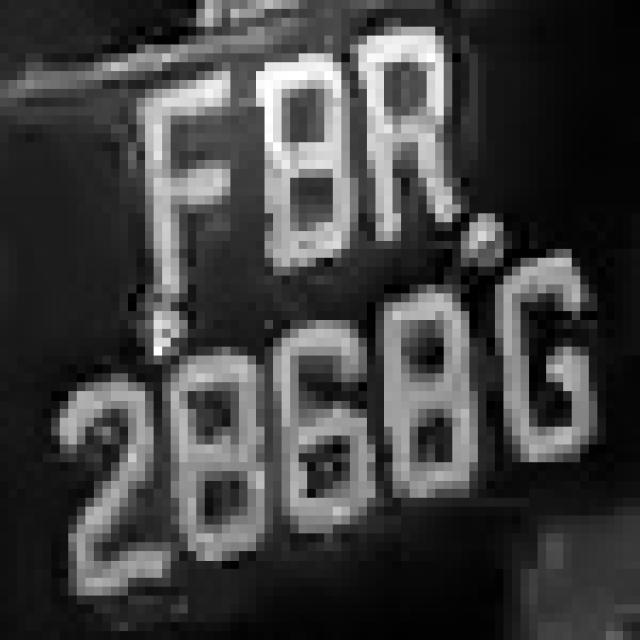2: (34, 374, 188, 614)
6: (256, 294, 384, 534)
8: (367, 266, 478, 516), (154, 338, 273, 560)
B: (230, 62, 376, 267)
F: (111, 54, 256, 302)
G: (478, 222, 606, 507)
R: (341, 18, 478, 249)
